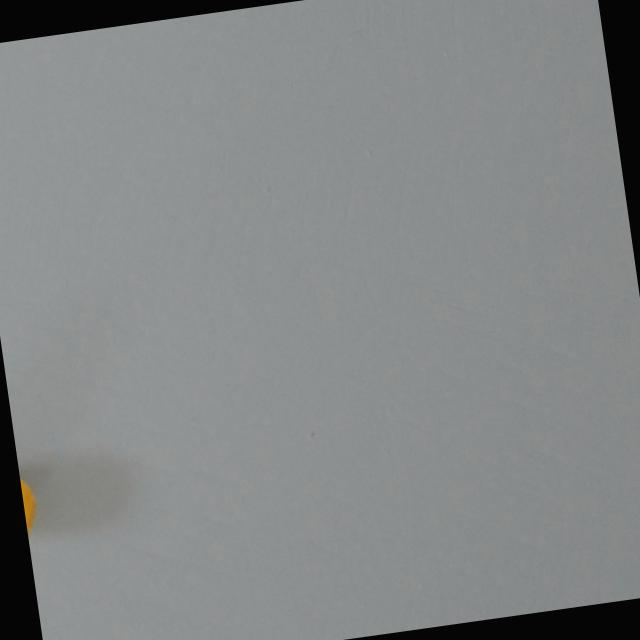no_canjicado: (18, 464, 49, 558)
